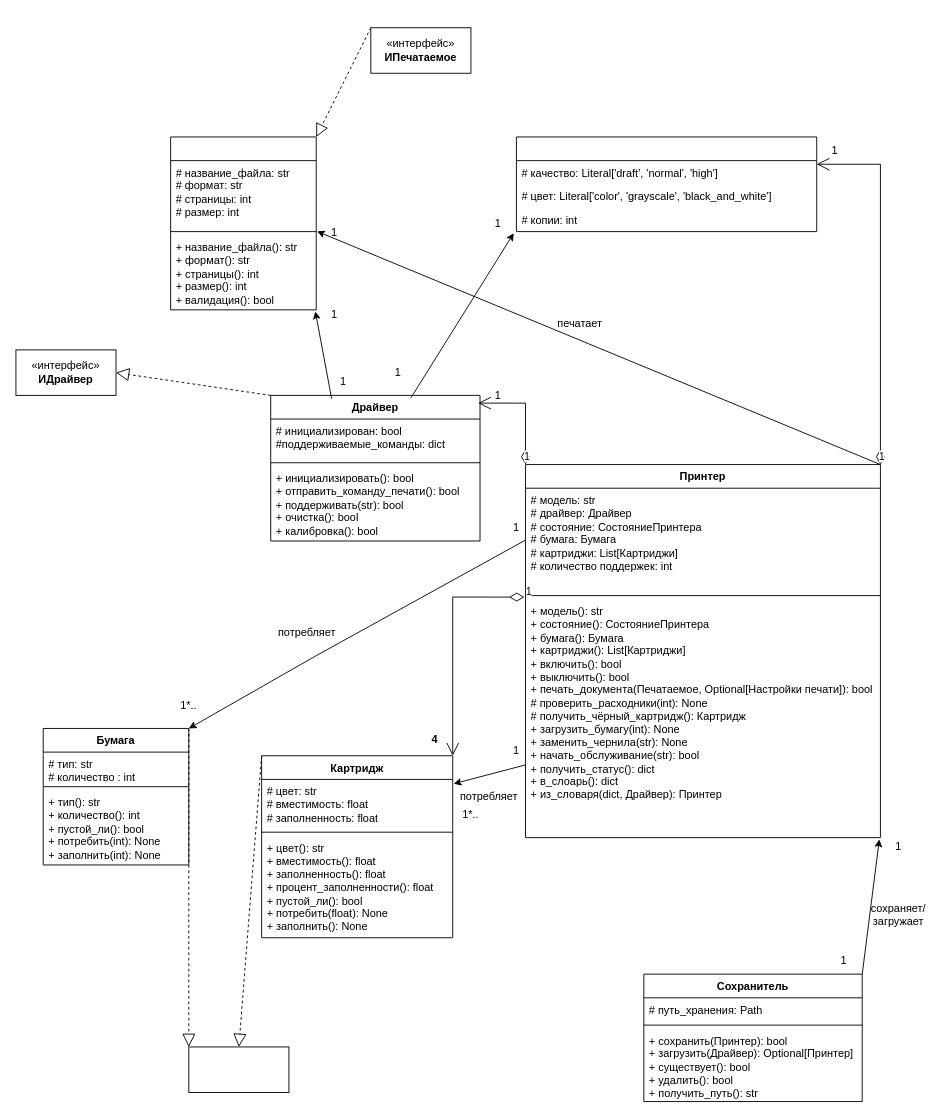
Image size: 942x1120. Some labels were removed from this diagram. The shapes that lost their labels are listed below. From the top down, each one's box as (x1, y1, x2, y2) in pixels, then its label:
(516, 136, 817, 232): НастройкиПечати
(170, 136, 316, 310): Документ
(188, 1046, 289, 1092): «интерфейс» ИПотребляемое
